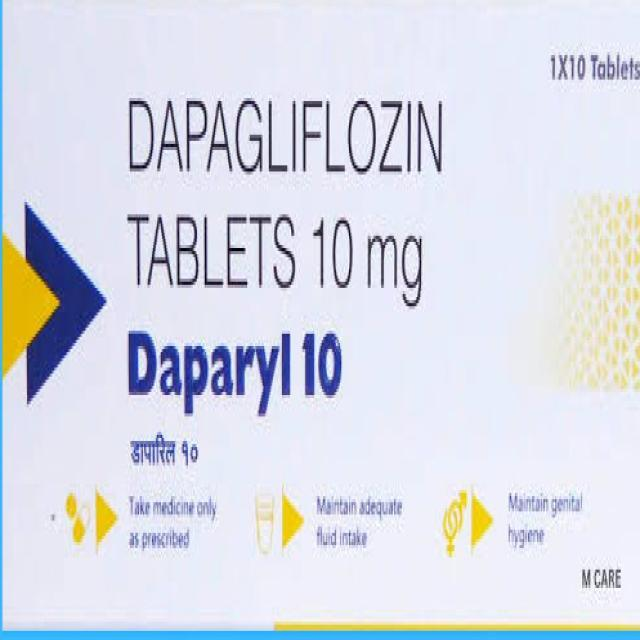drug-name: (124, 323, 348, 417)
